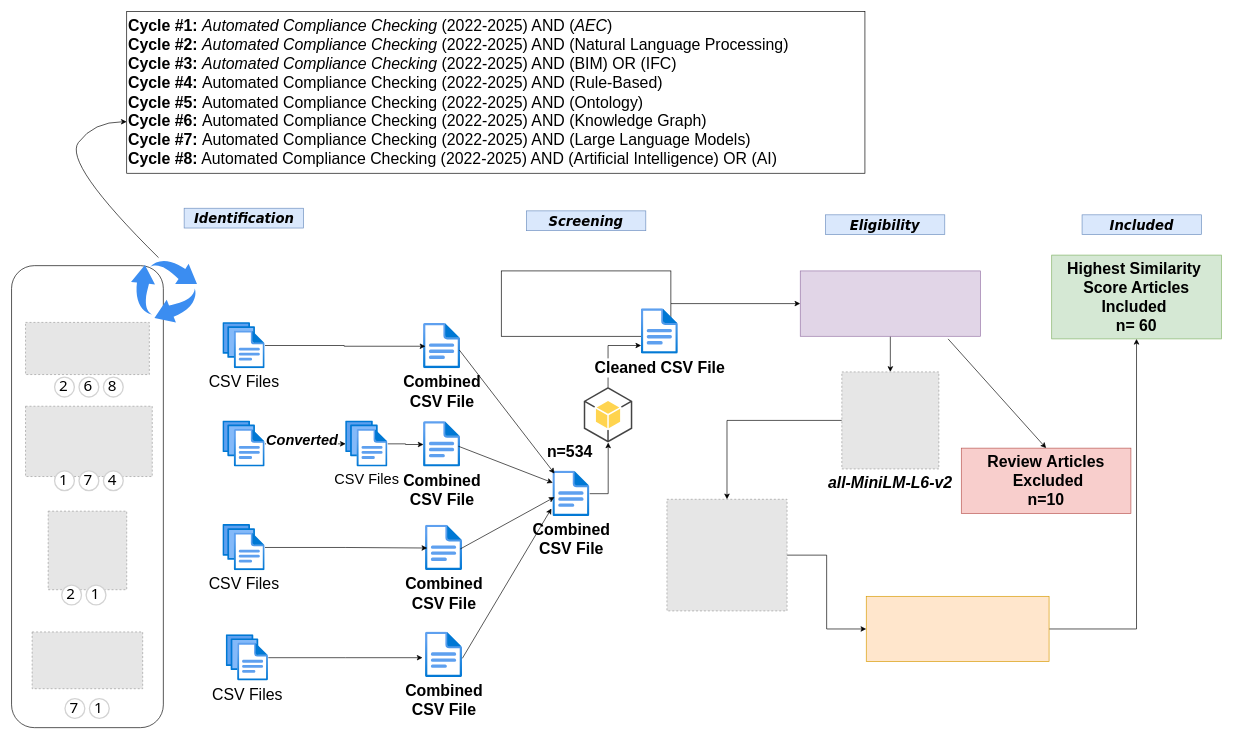
This 1233x744 diagram has some shape labels left out. Grey dashed boxes stand in for pictures. The shapes that lost their labels are listed below. From the top down, each one's box as (x1, y1, x2, y2) in pixels, then its label:
(131, 259, 197, 322): 8 Cycles
(501, 270, 671, 336): Records After Duplicated Removed n= 272
(800, 270, 980, 336): Full A rticles Assessed for Eligibility n= 98
(222, 420, 265, 467): Excel Files
(866, 596, 1049, 662): Lowest Similarity Score Articles Included n= 28
